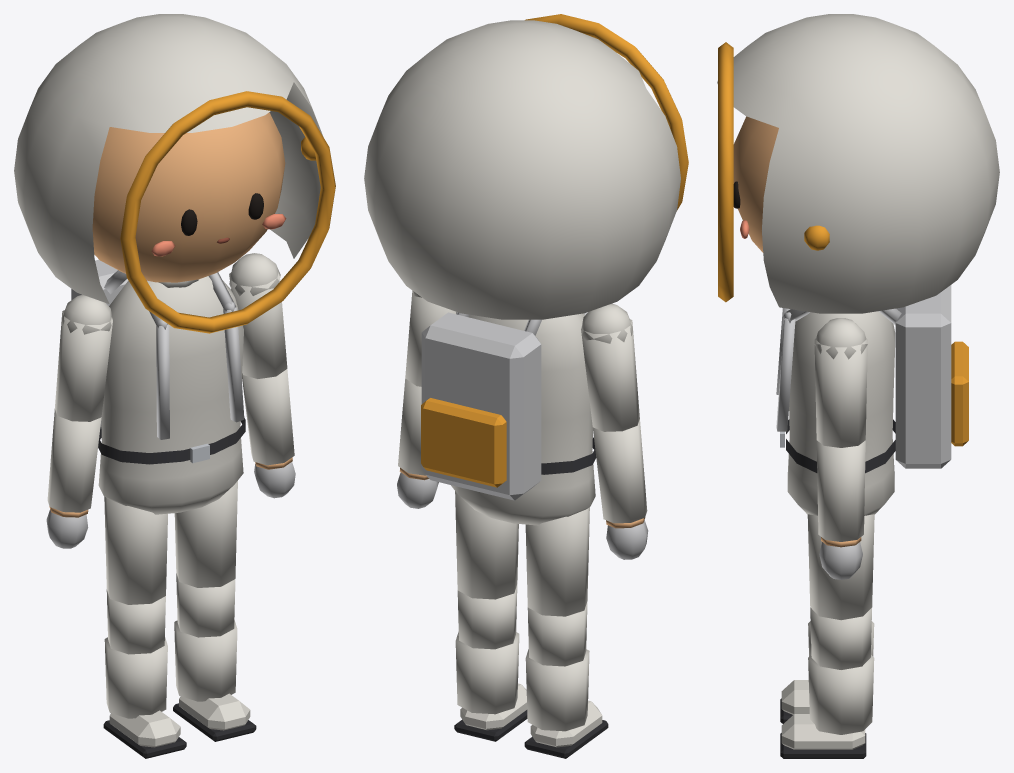
Rendered from era5_astronaut.glb.
The picture shows the model from 3 angles, left to right: view 1: azimuth 30°, elevation 25°; view 2: azimuth 150°, elevation 25°; view 3: azimuth 270°, elevation 25°; orthographic projection.
Parts seen in each view (by area): view 1: head, body, shin_R, shin_L, arm_R, leg_R, forearm_R, forearm_L, leg_L, arm_L; view 2: head, body, shin_R, shin_L, arm_R, leg_R, forearm_R, leg_L, forearm_L, arm_L; view 3: head, body, shin_L, arm_L, forearm_L, leg_L, shin_R.
Boxes of the visible parts, x1,y1,x2,y2 form: head: (14,14,335,333); body: (71,259,245,514); shin_R: (103,589,186,758); shin_L: (173,573,256,741); arm_R: (55,294,112,421); leg_R: (104,496,167,604); forearm_R: (46,409,101,548); forearm_L: (242,369,295,498); leg_L: (174,481,237,587); arm_L: (229,253,287,378); head: (364,14,688,319); body: (421,312,596,525); shin_R: (524,601,608,758); shin_L: (454,584,527,741); arm_R: (581,303,639,431); leg_R: (525,507,589,616); forearm_R: (592,419,648,559); leg_L: (455,491,518,599); forearm_L: (397,378,438,508); arm_L: (405,290,456,386); head: (717,14,999,313); body: (776,285,968,515); shin_L: (780,607,874,758); arm_L: (814,318,867,447); forearm_L: (816,440,865,579); leg_L: (807,514,874,620); shin_R: (780,621,874,723).
Size of the model in its own units: 0.6365 by 1.53 by 0.5581.
